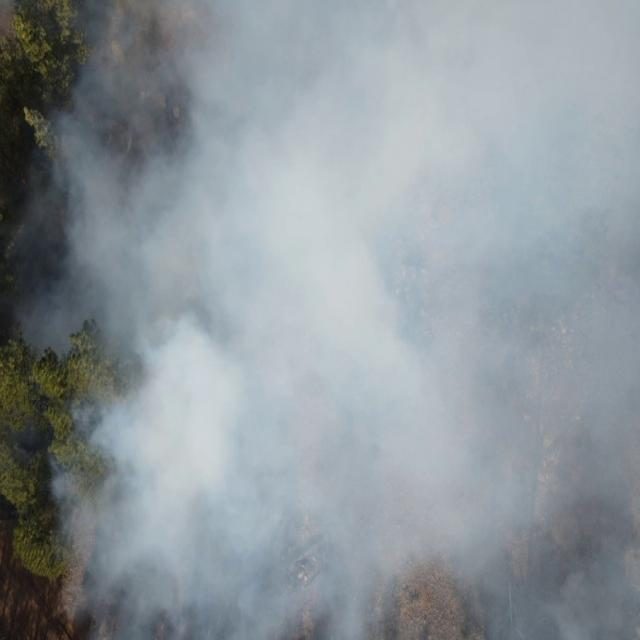smoke: (83, 1, 640, 640), (12, 80, 86, 355), (52, 452, 83, 586), (71, 395, 82, 449)
